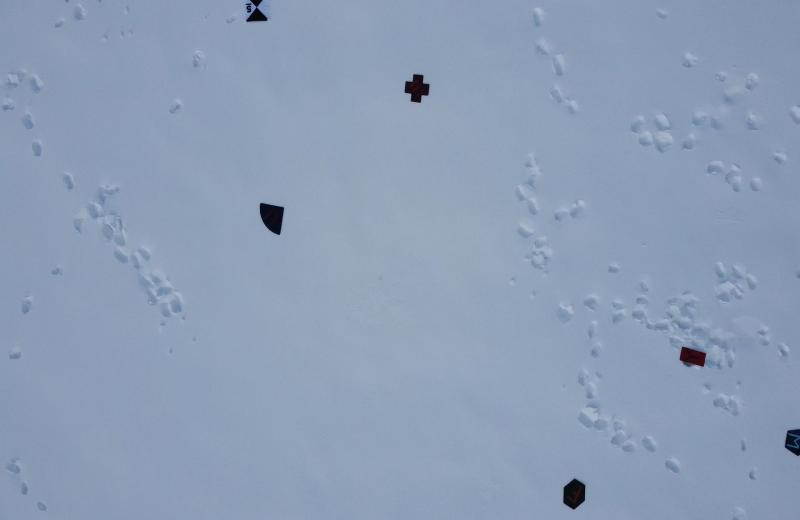Cross: (402, 68, 430, 104)
Hexagon: (558, 476, 589, 512)
Pentagon: (778, 416, 799, 463)
Quarter Circle: (255, 196, 288, 244)
Rectangle: (1, 0, 800, 520), (680, 342, 707, 374)
